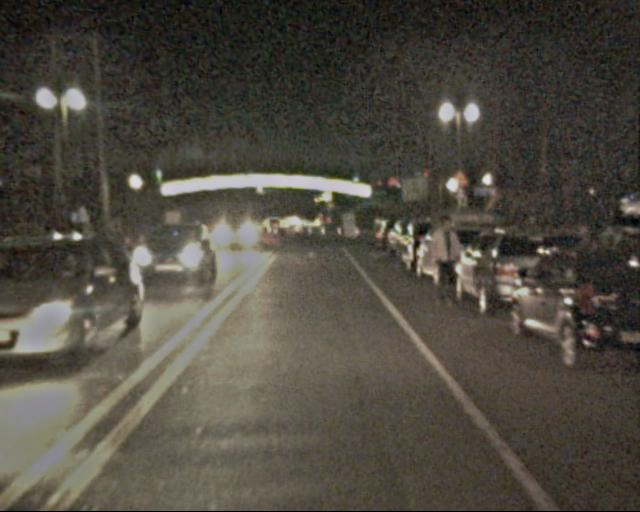person: (423, 215, 464, 316)
